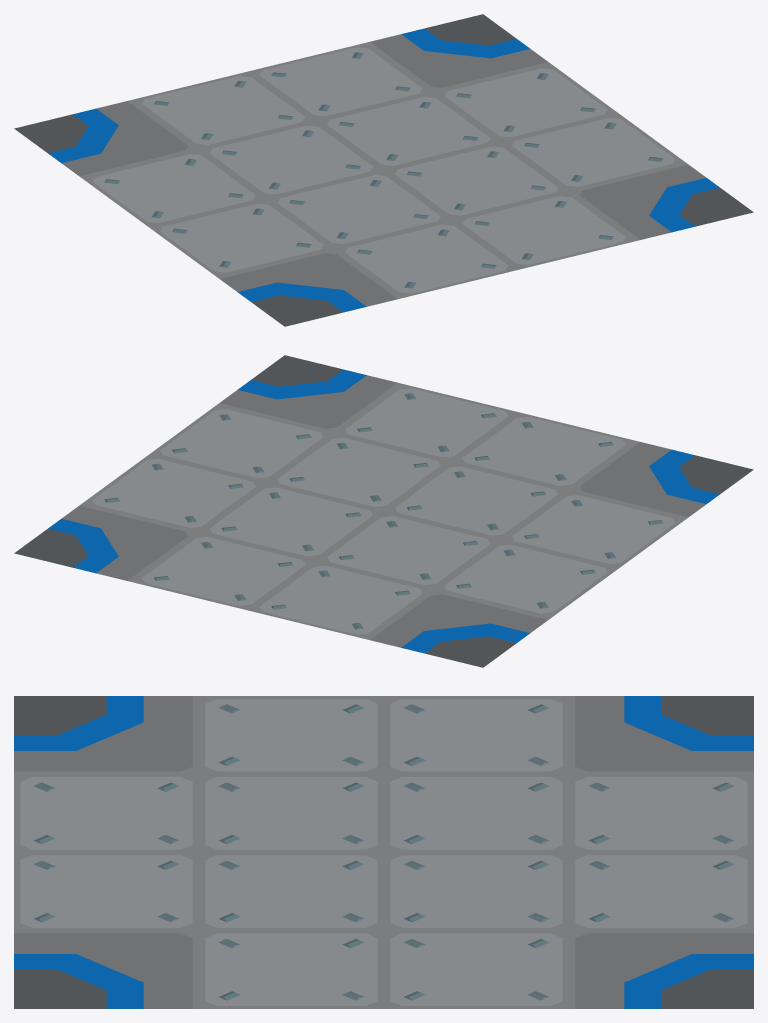
File: Floor_type_B_004.fbx
The picture shows the model from 3 angles, top to bottom: view 1: azimuth 30°, elevation 25°; view 2: azimuth 150°, elevation 25°; view 3: azimuth 270°, elevation 25°; orthographic projection. The views are drawn at different scales.
Parts seen in each view (by area): view 1: Floor_type_B_004; view 2: Floor_type_B_004; view 3: Floor_type_B_004.
Part boxes in pixels (x1,y1,x2,y2): Floor_type_B_004: [14, 14, 753, 326]; Floor_type_B_004: [14, 355, 753, 667]; Floor_type_B_004: [14, 696, 753, 1008].
Bounding box in the file's own units: 400 × 400 × 0.8.
